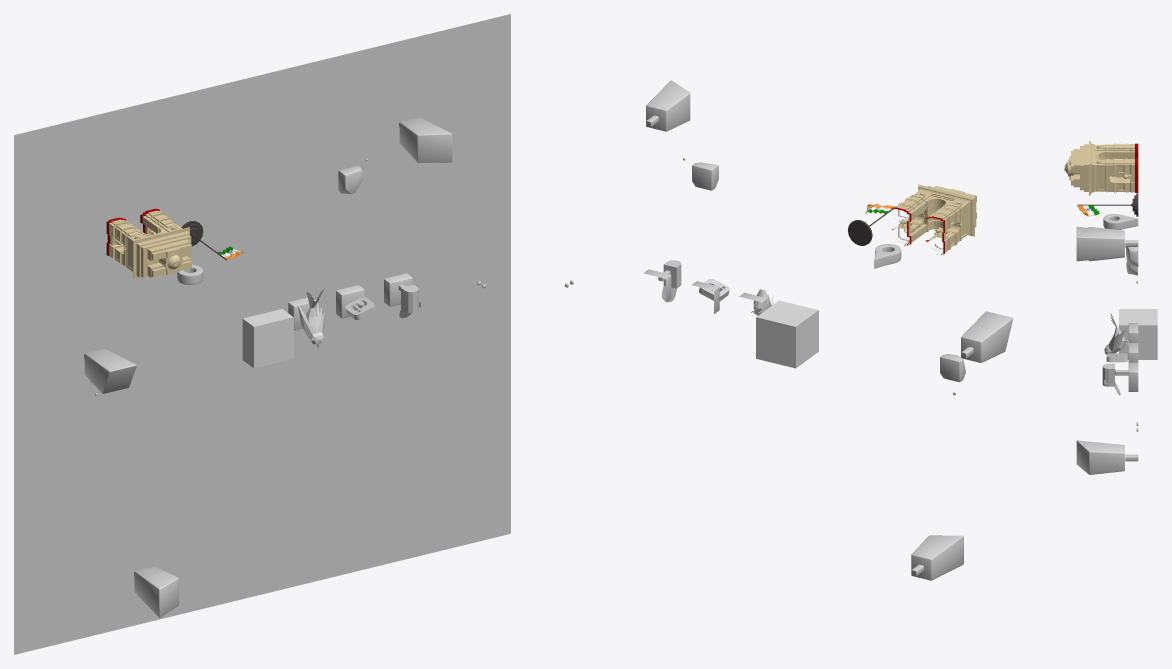
Rendered from baseindia.glb.
3 views of the same model, side by side, from view 1: azimuth 30°, elevation 25°; view 2: azimuth 150°, elevation 25°; view 3: azimuth 270°, elevation 25° (orthographic). The views are drawn at different scales.
Visible parts, largest first — view 1: floor.008, India Gate_2, Cube.001, shadeGreen.002, shadeGreen.011, shadeGreen.014, shadeOrange.005; view 2: India Gate_2, Cube.001, shadeGreen.014, shadeGreen.011, shadeGreen.002, Object_457; view 3: India Gate_2, Cube.001, shadeGreen.014, shadeGreen.002, shadeRed.001, Object_457, shadeOrange.005, shadeOrange.006, shadeWhite.116, shadeWhite_002.004, shadeWhite.114, shadeWhite_033 (+1 smaller).
Part boxes in pixels (x1,y1,x2,y2): floor.008: (14, 14, 510, 654); India Gate_2: (106, 208, 191, 279); Cube.001: (242, 309, 293, 368); shadeGreen.002: (399, 117, 452, 162); shadeGreen.011: (84, 349, 136, 393); shadeGreen.014: (134, 566, 178, 617); shadeOrange.005: (297, 288, 324, 348); India Gate_2: (892, 184, 976, 254); Cube.001: (756, 300, 818, 368); shadeGreen.014: (911, 535, 963, 580); shadeGreen.011: (961, 311, 1013, 362); shadeGreen.002: (646, 80, 690, 131); Object_457: (848, 203, 894, 245); India Gate_2: (1064, 140, 1138, 195); Cube.001: (1119, 309, 1157, 359); shadeGreen.014: (1076, 440, 1124, 474); shadeGreen.002: (1076, 227, 1124, 261); shadeRed.001: (1103, 213, 1138, 229); Object_457: (1077, 193, 1138, 216); shadeOrange.005: (1104, 313, 1128, 354); shadeOrange.006: (1102, 363, 1120, 395); shadeWhite.116: (1128, 362, 1138, 391); shadeWhite_002.004: (1126, 247, 1138, 266); shadeWhite.114: (1128, 343, 1138, 362); shadeWhite_033: (1128, 323, 1138, 342).
Size of the model in its own units: 25 by 25 by 4.83.
Materials: 7 (1 with a texture image).
